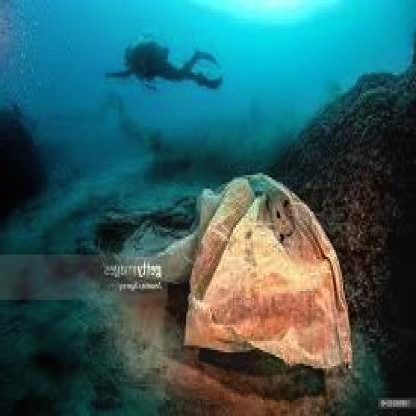pbag: (89, 170, 354, 373)
